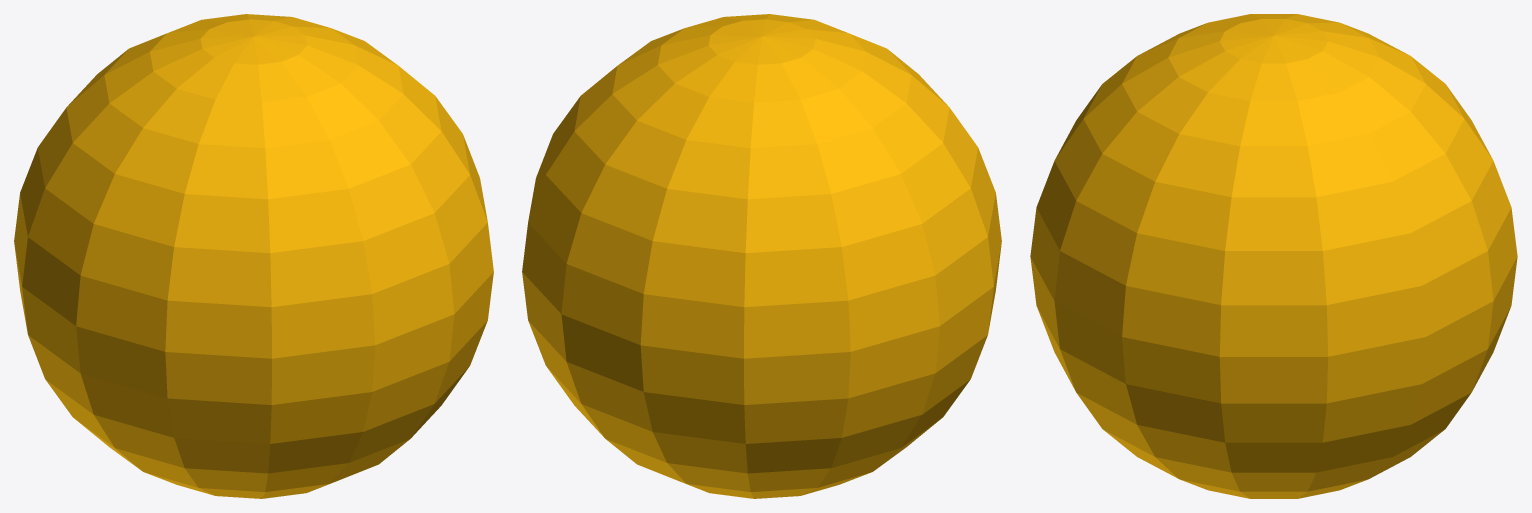
Rendered from clu_world.obj.
The picture shows the model from 3 angles, left to right: view 1: azimuth 30°, elevation 25°; view 2: azimuth 150°, elevation 25°; view 3: azimuth 270°, elevation 25°; orthographic projection.
Parts seen in each view (by area): view 1: Sphere; view 2: Sphere; view 3: Sphere.
Part boxes in pixels (<box>): Sphere: <box>14,14,493,498</box>; Sphere: <box>522,14,1001,498</box>; Sphere: <box>1030,14,1517,498</box>.
Bounding box in the file's own units: 1.95 × 2 × 2.
